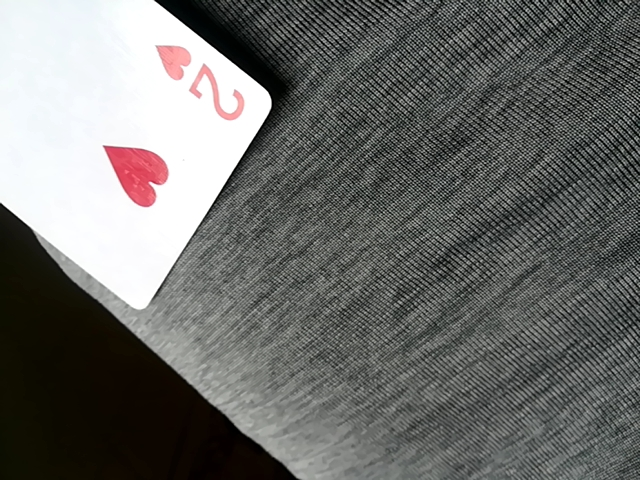hx 2: (0, 0, 279, 314)
